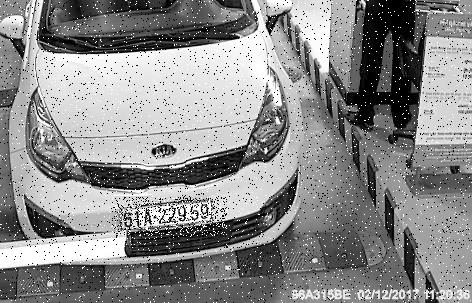License-plate: (113, 198, 228, 237)
